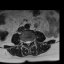CCS_normal: (27, 39, 29, 47)
LFS_stenosis: (31, 38, 33, 44)
LLS_normal: (29, 39, 31, 45)
RFS_normal: (24, 39, 25, 44)
RLS_normal: (25, 39, 27, 45)
